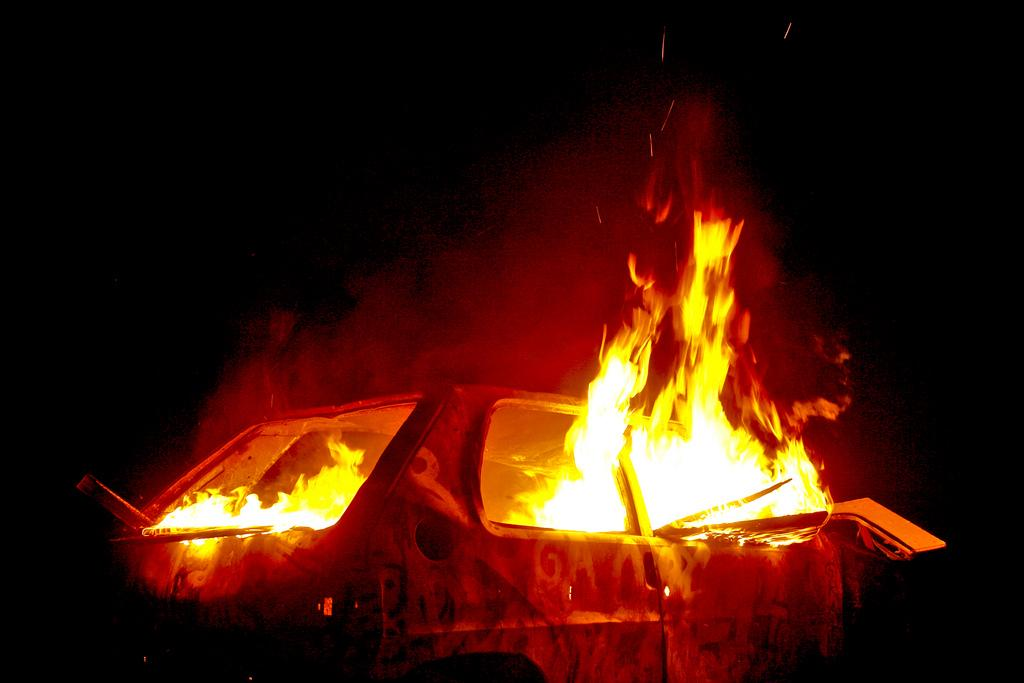fire: (582, 405, 832, 533), (673, 210, 743, 395), (168, 473, 330, 533)
